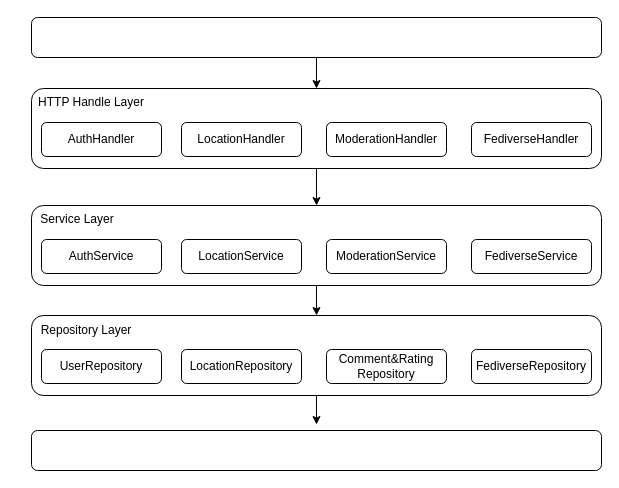
Image size: 619x488. Some labels were removed from this diagram. Here are the shapes that lost their labels. From the top down, the centre of each, then its label:
At (316,37): "Next.JS + MapLibre GL JS".
At (316,450): "Postgres + PostGIS".
